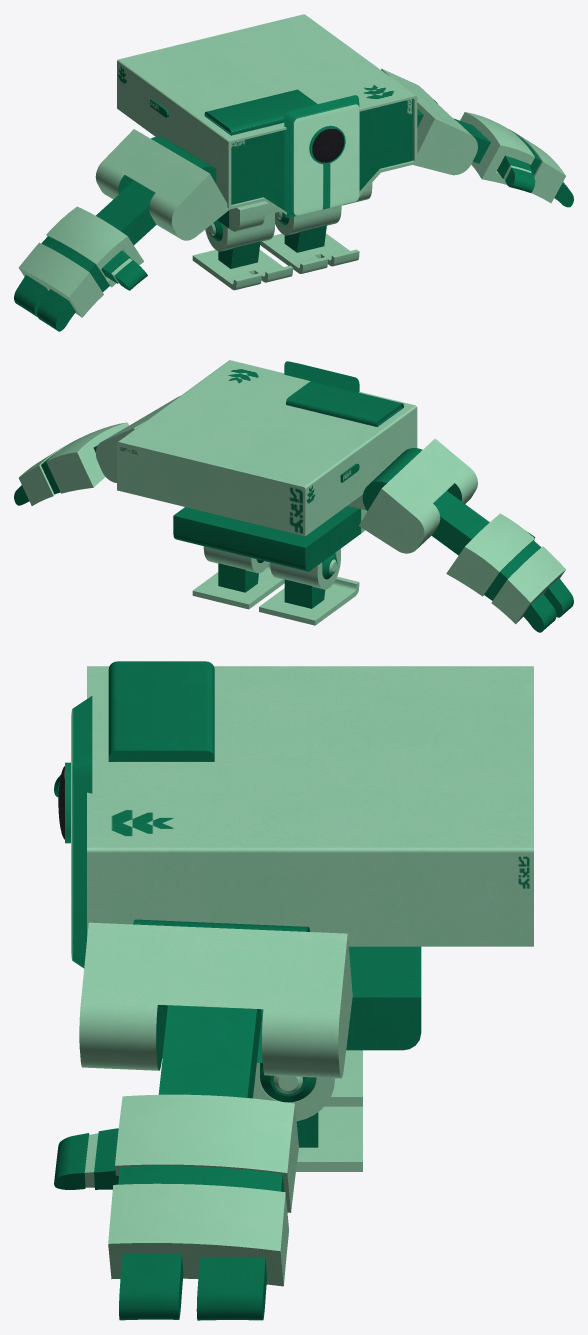
3 views of the same model, one above another, from view 1: azimuth 30°, elevation 25°; view 2: azimuth 150°, elevation 25°; view 3: azimuth 270°, elevation 25° (orthographic). The views are drawn at different scales.
Visible parts, largest first — view 1: Cube.001_Cube.001, arm_rot, Cube.002_Cube.003, Circle_Circle.001, Cube_Cube.002, Torso_Cube.001; view 2: Cube.001_Cube.001, Cube.002_Cube.003, arm_rot, Circle_Circle.001, Torso_Cube.001, Cube_Cube.002; view 3: Cube.001_Cube.001, arm_rot, Cube.002_Cube.003, Circle_Circle.001, Torso_Cube.001, Cube_Cube.002.
Boxes of the visible parts, x1,y1,x2,y2 form: Cube.001_Cube.001: (117,14,417,214); arm_rot: (95,68,490,245); Cube.002_Cube.003: (14,112,573,331); Circle_Circle.001: (192,205,359,290); Cube_Cube.002: (284,95,359,217); Torso_Cube.001: (217,183,372,231); Cube.001_Cube.001: (117,360,417,536); Cube.002_Cube.003: (14,422,573,632); arm_rot: (93,396,489,555); Circle_Circle.001: (192,546,359,625); Torso_Cube.001: (173,506,367,571); Cube_Cube.002: (284,361,359,392); Cube.001_Cube.001: (87,661,533,946); arm_rot: (79,919,352,1098); Cube.002_Cube.003: (54,775,298,1320); Circle_Circle.001: (253,1050,362,1171); Torso_Cube.001: (346,946,421,1050); Cube_Cube.002: (58,696,92,968).
Size of the model in its own units: 5.6 by 1.93 by 2.19.
6 materials, 6 textured.
